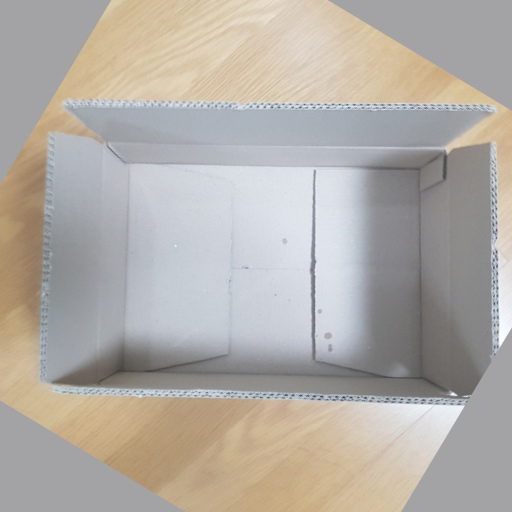Paper_0: (36, 95, 504, 415)
